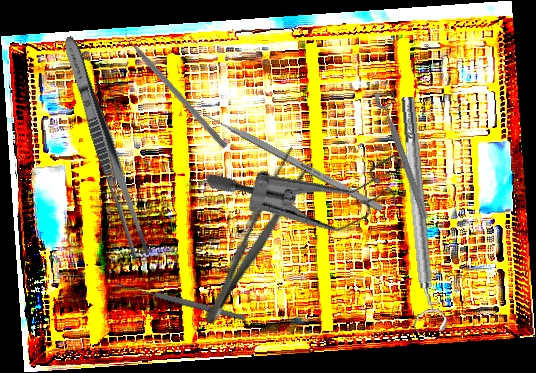Chopper: (116, 21, 235, 150)
Dressing Forceps: (194, 144, 316, 331), (56, 33, 155, 261)
Fixation Ring: (391, 95, 449, 334), (373, 87, 439, 222)
Pusher: (188, 103, 385, 213)
Speculum: (204, 91, 423, 279)
Surgical Spoon: (115, 279, 247, 323)
